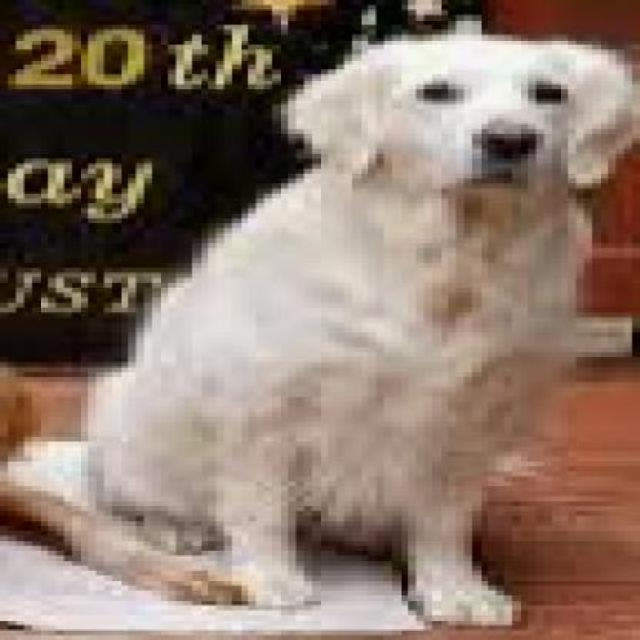Dog: (72, 24, 632, 630)
